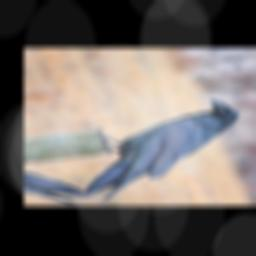Crow: (47, 96, 256, 202)
